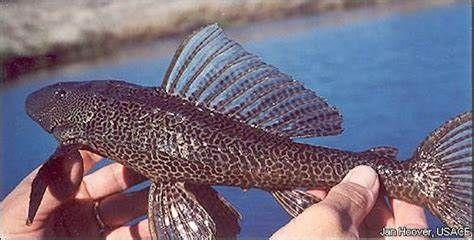Janitor Fish: (25, 20, 474, 240)
